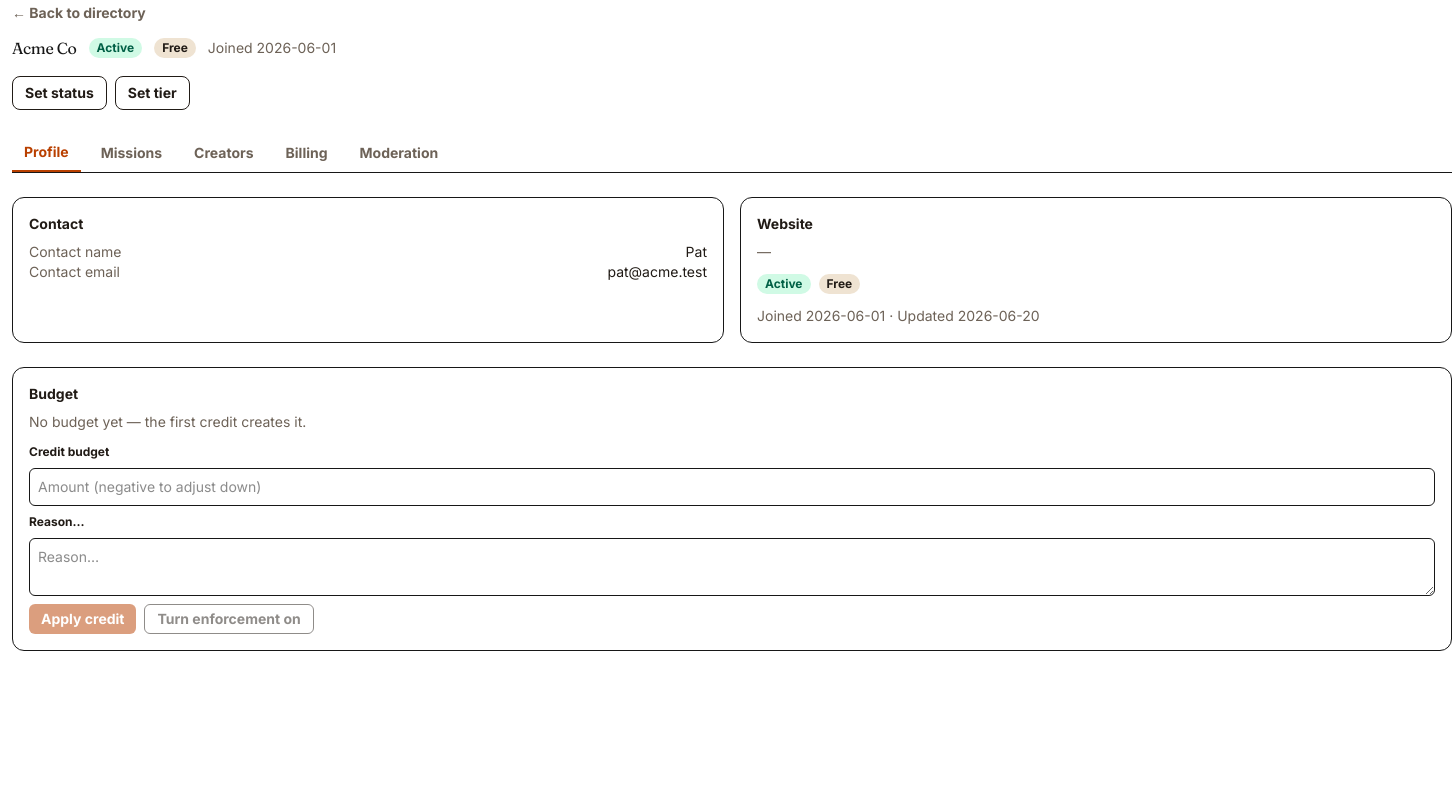
Test case: MerchantDetailView › surfaces an action failure instead of refreshing
Click the button "Set tier".
click(152, 93)  # box x1=115 y1=76 x2=190 y2=110
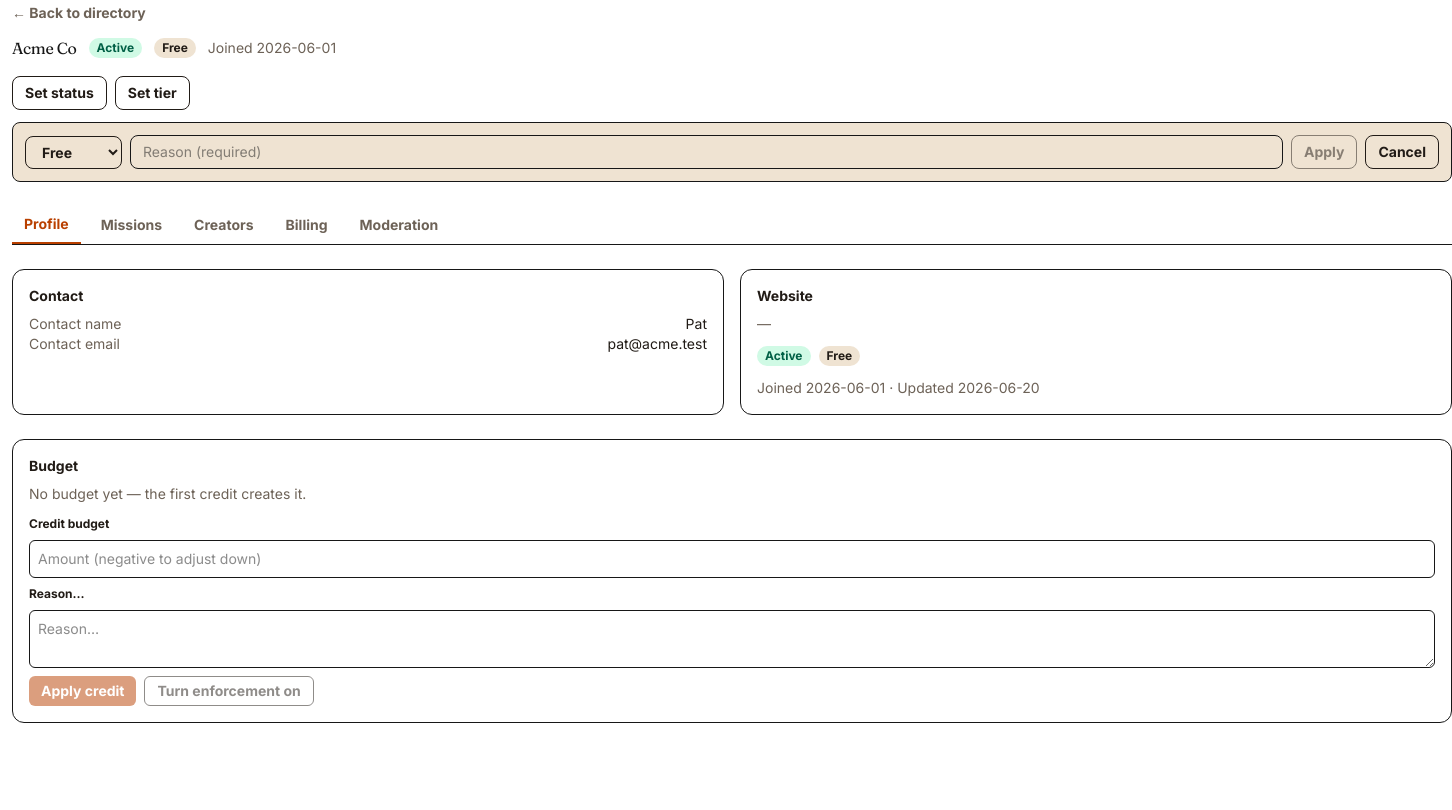
Type "upgrade" into the field with placeholder "Reason (required)".
click(706, 152); type("upgrade")  # box x1=130 y1=135 x2=1283 y2=169
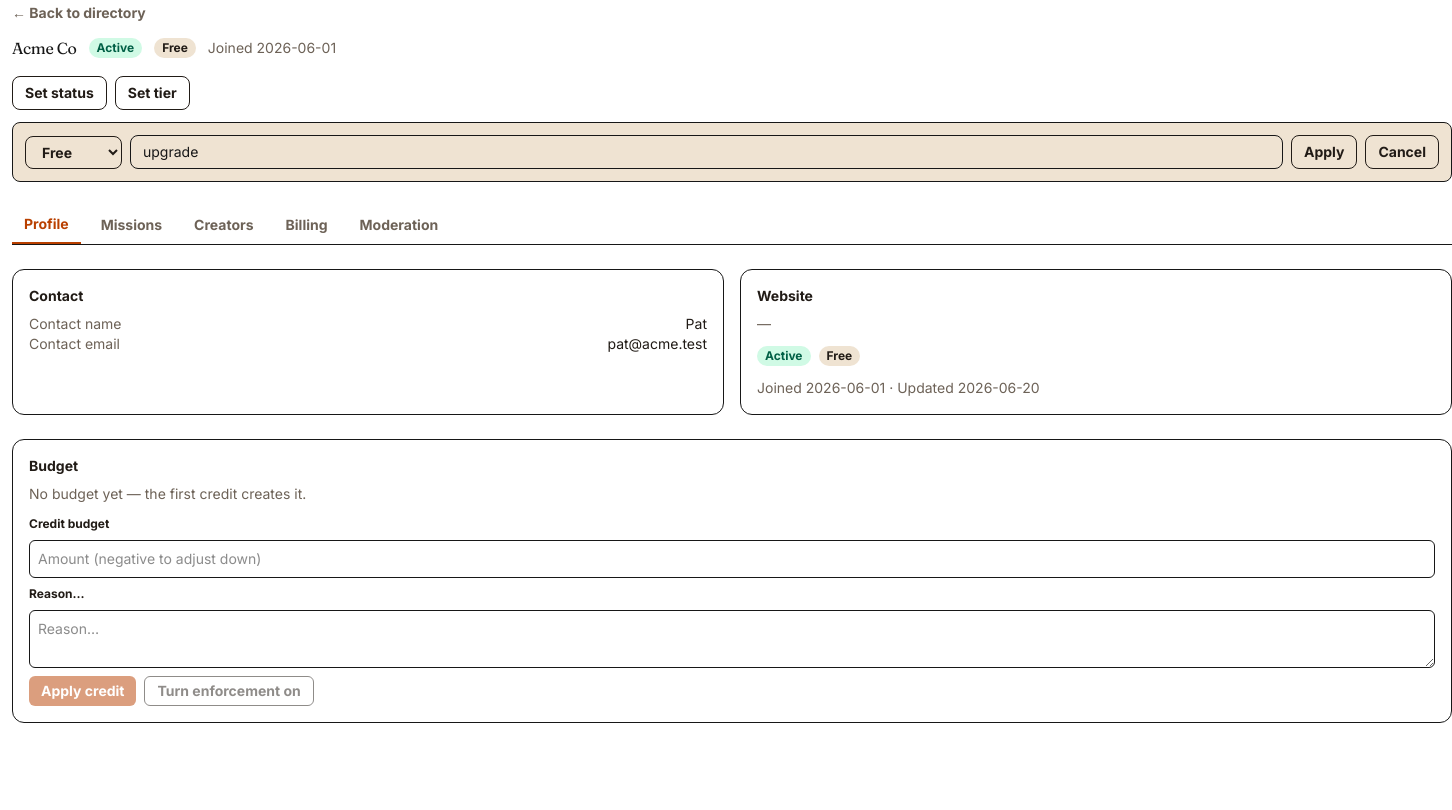
Click the button "Apply".
click(1324, 152)  # box x1=1291 y1=135 x2=1358 y2=169
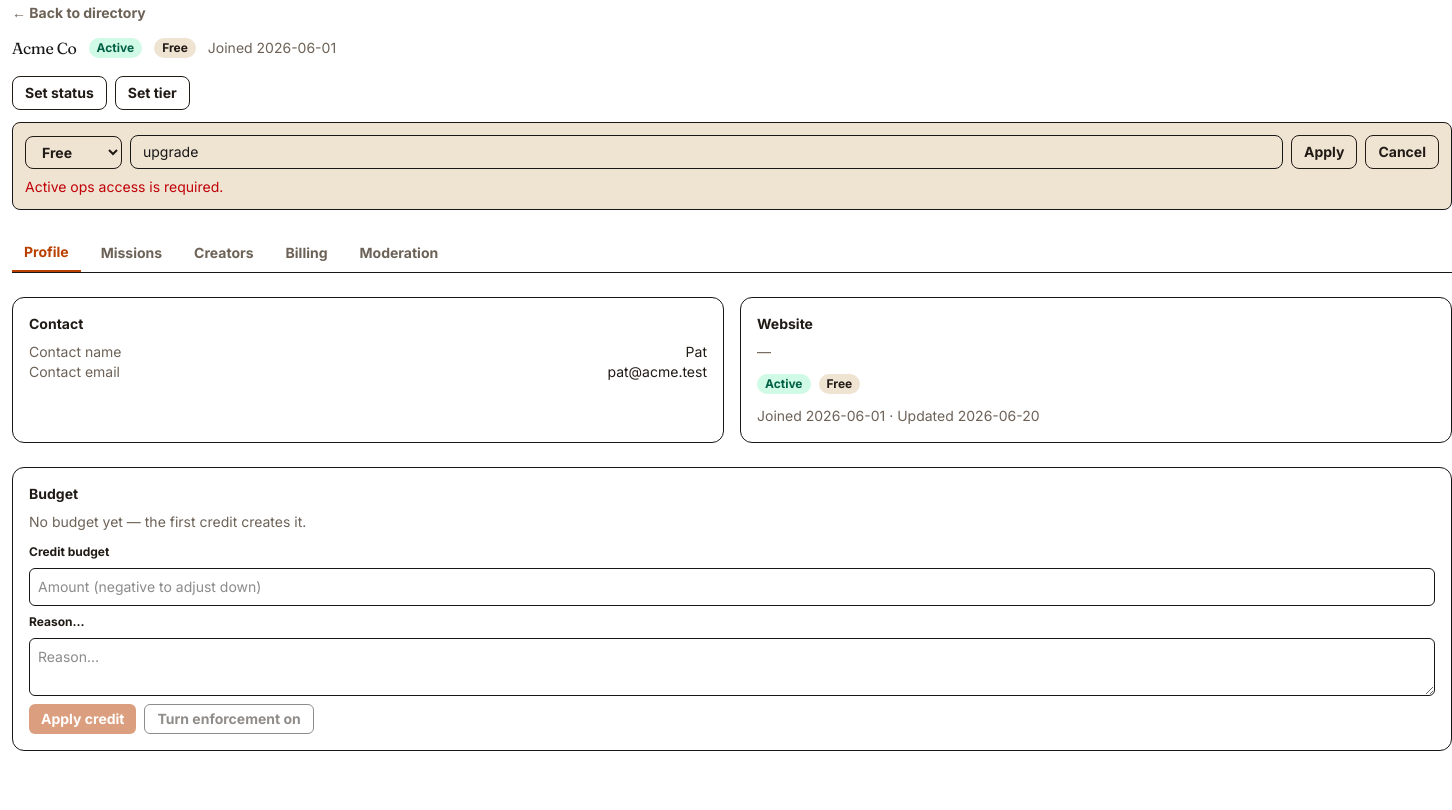
Check: the text "Active ops access is required." is shown, box x1=25 y1=178 x2=223 y2=195
